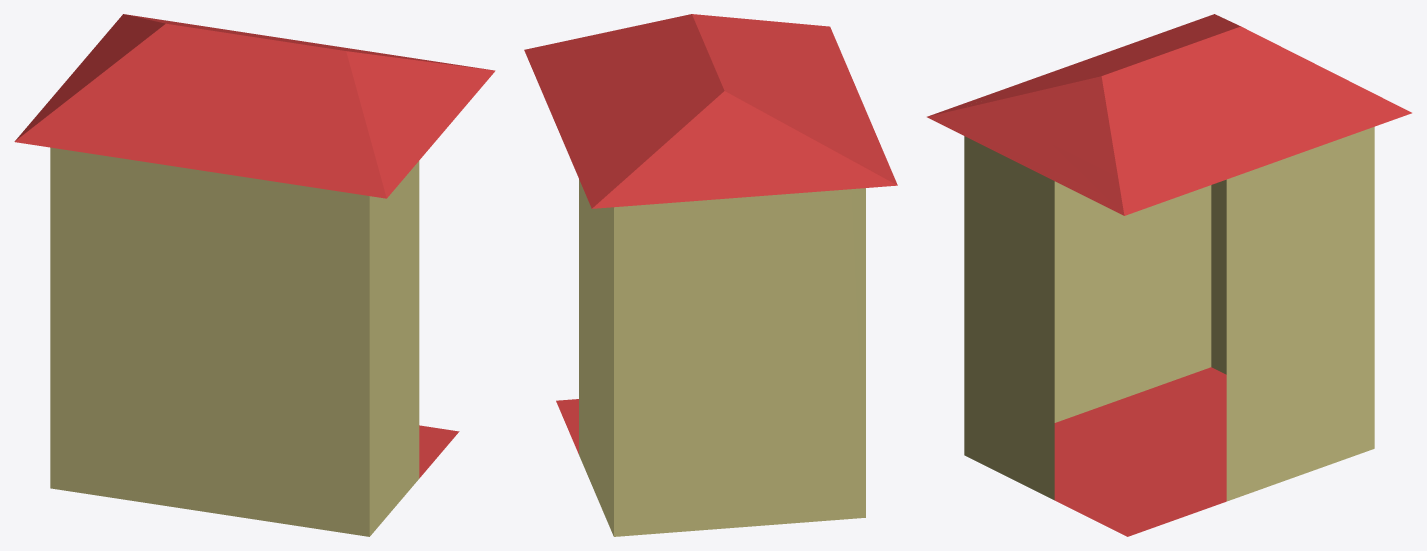
3 renders of one model, left to right at view 1: azimuth 30°, elevation 25°; view 2: azimuth 150°, elevation 25°; view 3: azimuth 270°, elevation 25°, orthographic. The views are drawn at different scales.
Parts seen in each view (by area): view 1: group_5, group_3, group_4, group_6; view 2: group_5, group_3, group_4, group_6; view 3: group_5, group_3, group_6, group_4.
Boxes of the visible parts, x1=… form: group_5: x1=50, y1=147, x2=419, y2=536; group_3: x1=14, y1=14, x2=494, y2=198; group_4: x1=15, y1=14, x2=494, y2=198; group_6: x1=419, y1=425, x2=459, y2=478; group_5: x1=579, y1=179, x2=865, y2=536; group_3: x1=527, y1=14, x2=897, y2=208; group_4: x1=524, y1=24, x2=897, y2=208; group_6: x1=556, y1=399, x2=578, y2=454; group_5: x1=964, y1=127, x2=1374, y2=501; group_3: x1=927, y1=14, x2=1374, y2=215; group_6: x1=1054, y1=367, x2=1226, y2=536; group_4: x1=928, y1=14, x2=1411, y2=215.
Bounding box in the file's own units: 13.27 × 13.5 × 12.3.
